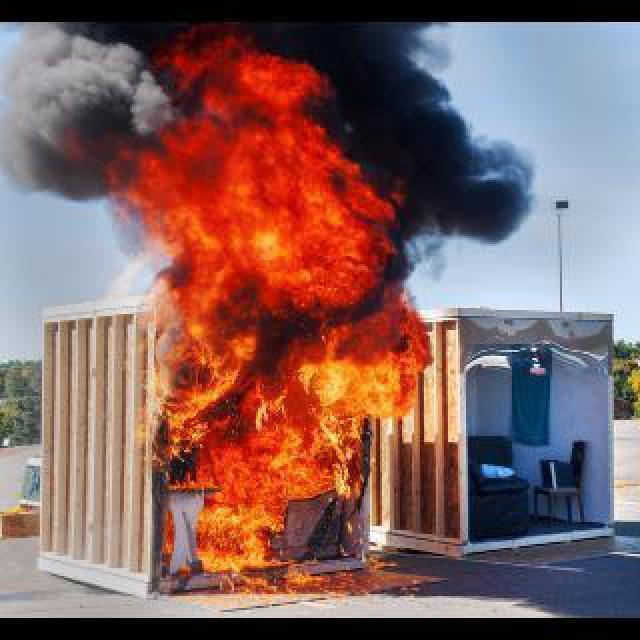Fire: (138, 44, 428, 580)
Smoke: (390, 46, 544, 248), (2, 20, 150, 212)
